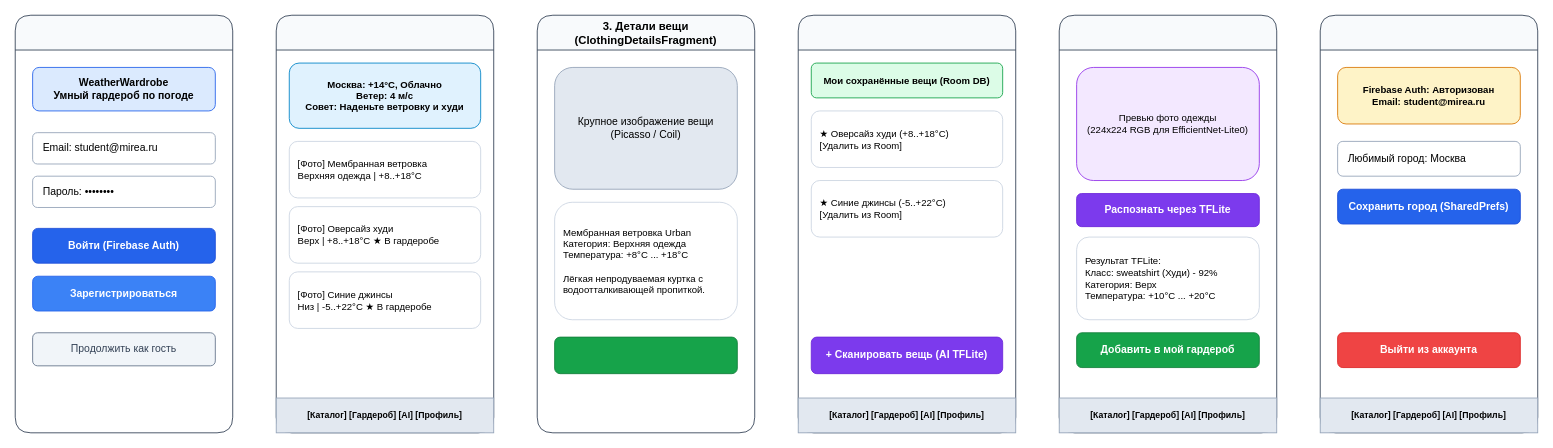
This 1553x448 diagram has some shape labels left out. Here are the shapes that lost their labels. From the top down, the box of each, then its label:
(14, 14, 233, 433): 1. Экран Входа (AuthActivity) Firebase Auth
(275, 14, 494, 433): 2. Каталог и Погода (CatalogFragment)
(797, 14, 1016, 433): 4. Личный гардероб (WardrobeFragment - БД Room)
(1058, 14, 1277, 433): 5. ИИ-Сканер одежды (AiScannerFragment - TFLite)
(1319, 14, 1538, 433): 6. Профиль пользователя (ProfileFragment - SharedPrefs)
(554, 336, 737, 374): Сохранить в гардероб (Room)
